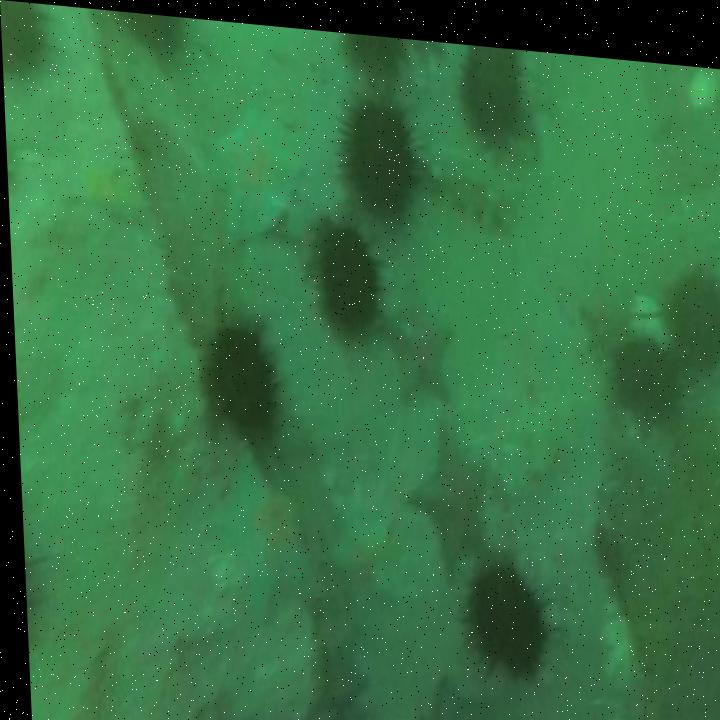echinus: (194, 325, 274, 439), (463, 554, 542, 669), (341, 93, 415, 208), (315, 222, 378, 330), (461, 36, 524, 139), (610, 325, 680, 413), (661, 252, 720, 355), (1, 0, 53, 79)
holothurian: (429, 125, 520, 225)
scallop: (688, 56, 720, 97)
starfish: (201, 452, 310, 617), (206, 106, 308, 247), (401, 397, 484, 560), (379, 272, 456, 396), (318, 494, 394, 617)
